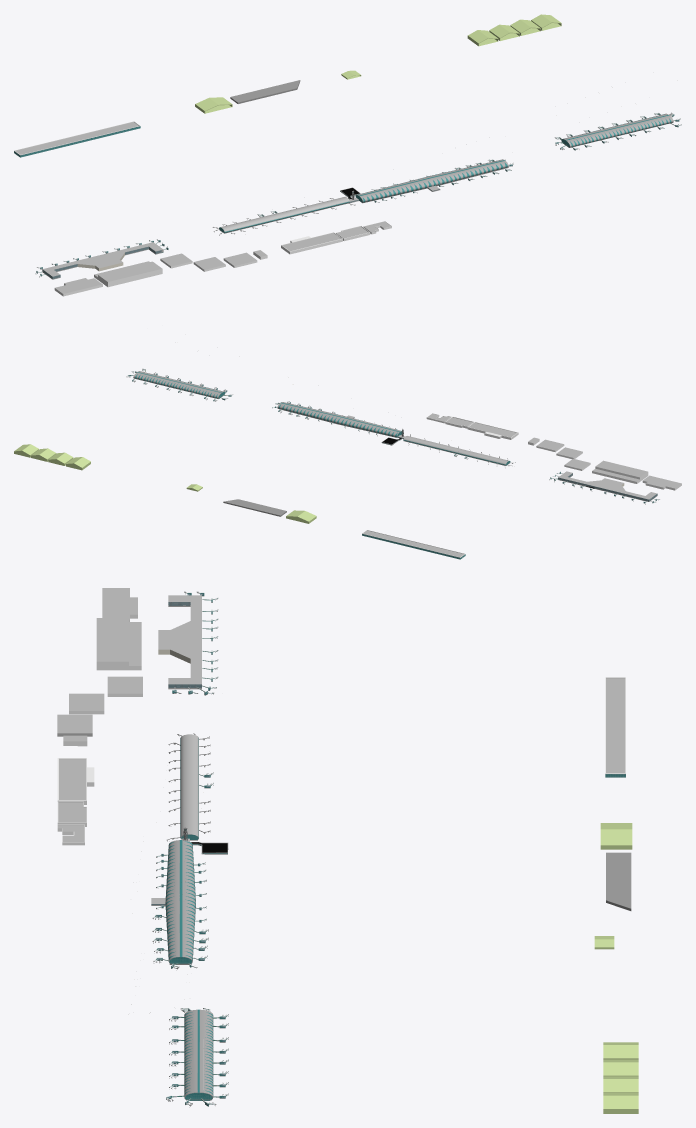
Rendered from dxbgeofs4.glb.
3 renders of one model, top to bottom at view 1: azimuth 30°, elevation 25°; view 2: azimuth 150°, elevation 25°; view 3: azimuth 270°, elevation 25°, orthographic. The views are drawn at different scales.
Visible parts, largest first — view 1: Plane, Plane.008, Circle.002, Plane.001, Circle.004, Cube.013, Circle.001, Plane.009, Circle; view 2: Plane, Plane.008, Circle.002, Plane.001, Circle.004, Cube.013, Circle.001, Plane.009; view 3: Plane, Plane.008, Circle.002, Circle.004, Plane.001, Cube.013, Circle.001, Plane.009, Cube, Circle.
Boxes of the visible parts, left/top/right/bottom form: Plane: left=54, top=221, right=391, bottom=296; Plane.008: left=195, top=14, right=561, bottom=113; Circle.002: left=355, top=159, right=508, bottom=202; Plane.001: left=42, top=242, right=163, bottom=279; Circle.004: left=561, top=113, right=673, bottom=147; Cube.013: left=14, top=121, right=140, bottom=157; Circle.001: left=219, top=196, right=349, bottom=233; Plane.009: left=230, top=80, right=300, bottom=103; Circle: left=35, top=113, right=681, bottom=276; Plane: left=426, top=413, right=681, bottom=490; Plane.008: left=14, top=444, right=316, bottom=523; Circle.002: left=277, top=402, right=402, bottom=437; Plane.001: left=558, top=471, right=657, bottom=501; Circle.004: left=133, top=371, right=225, bottom=398; Cube.013: left=362, top=530, right=465, bottom=559; Circle.001: left=403, top=436, right=510, bottom=465; Plane.009: left=223, top=499, right=286, bottom=516; Plane: left=57, top=588, right=142, bottom=845; Plane.008: left=594, top=823, right=638, bottom=1113; Circle.002: left=165, top=840, right=195, bottom=963; Circle.004: left=184, top=1009, right=213, bottom=1100; Plane.001: left=158, top=595, right=201, bottom=689; Cube.013: left=605, top=677, right=625, bottom=777; Circle.001: left=180, top=734, right=198, bottom=840; Plane.009: left=606, top=852, right=631, bottom=910; Cube: left=155, top=592, right=225, bottom=1106; Circle: left=153, top=591, right=228, bottom=1105.
Size of the model in its own units: 3175 by 292 by 1497.
Materials: 10 (5 with a texture image).
